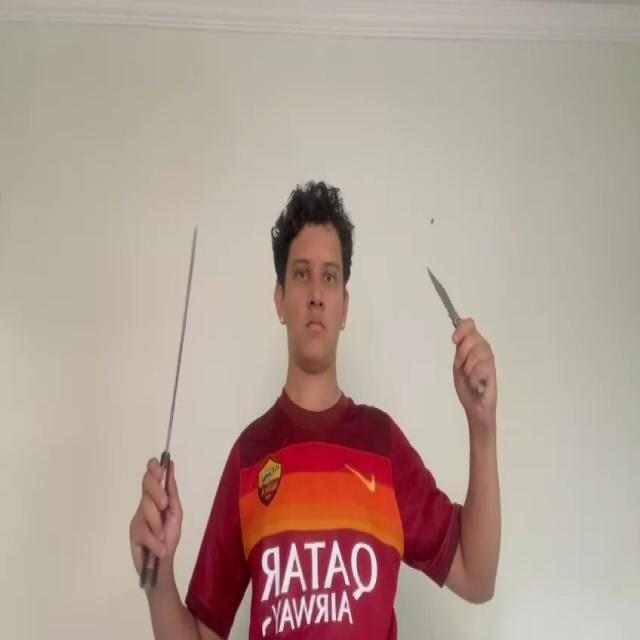knife: (164, 225, 198, 464), (426, 264, 454, 318)
